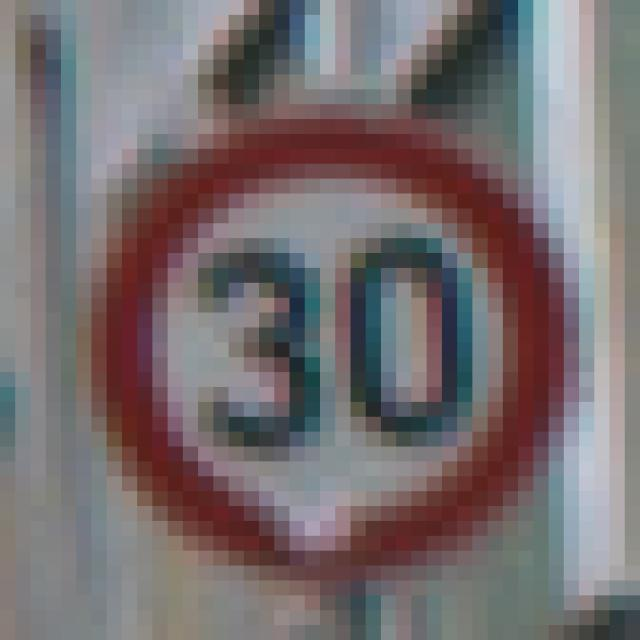Speed Limit -30-: (69, 67, 556, 543)
